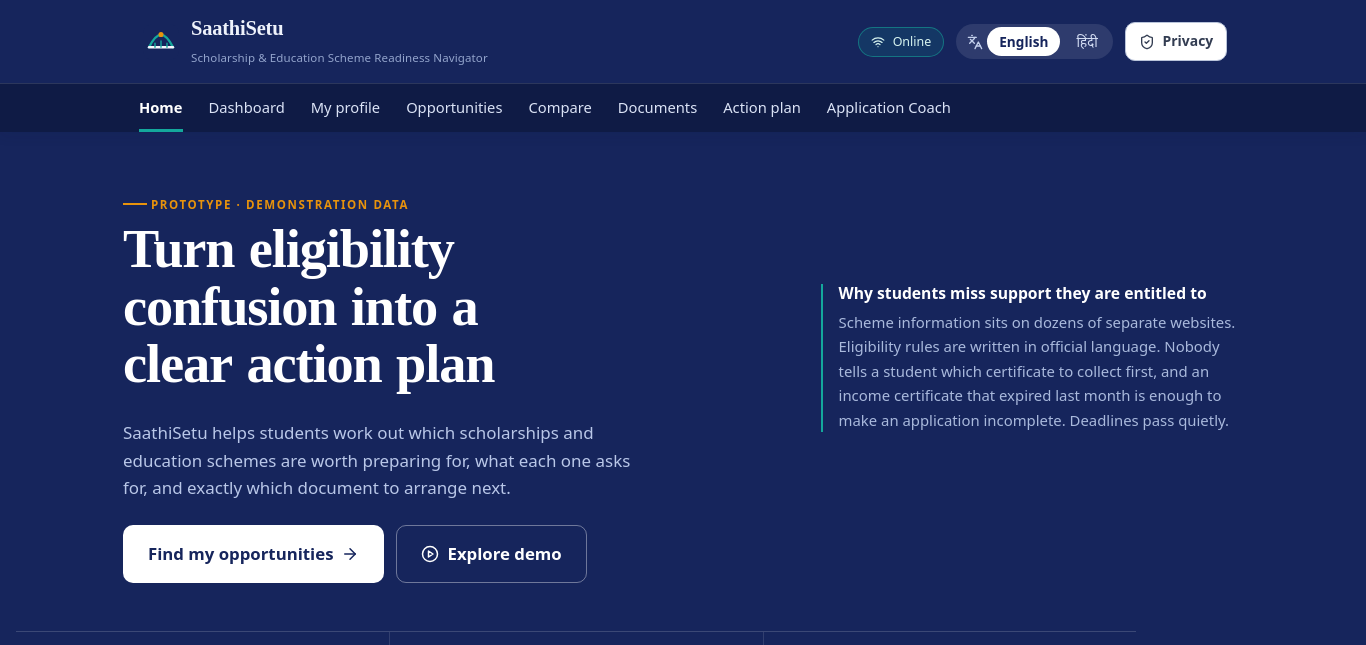
the opportunities page › explains a match on demand rather than only showing a percentage
Click the button "Find my opportunities": click(254, 554) top-left (123, 526), bottom-right (384, 583)
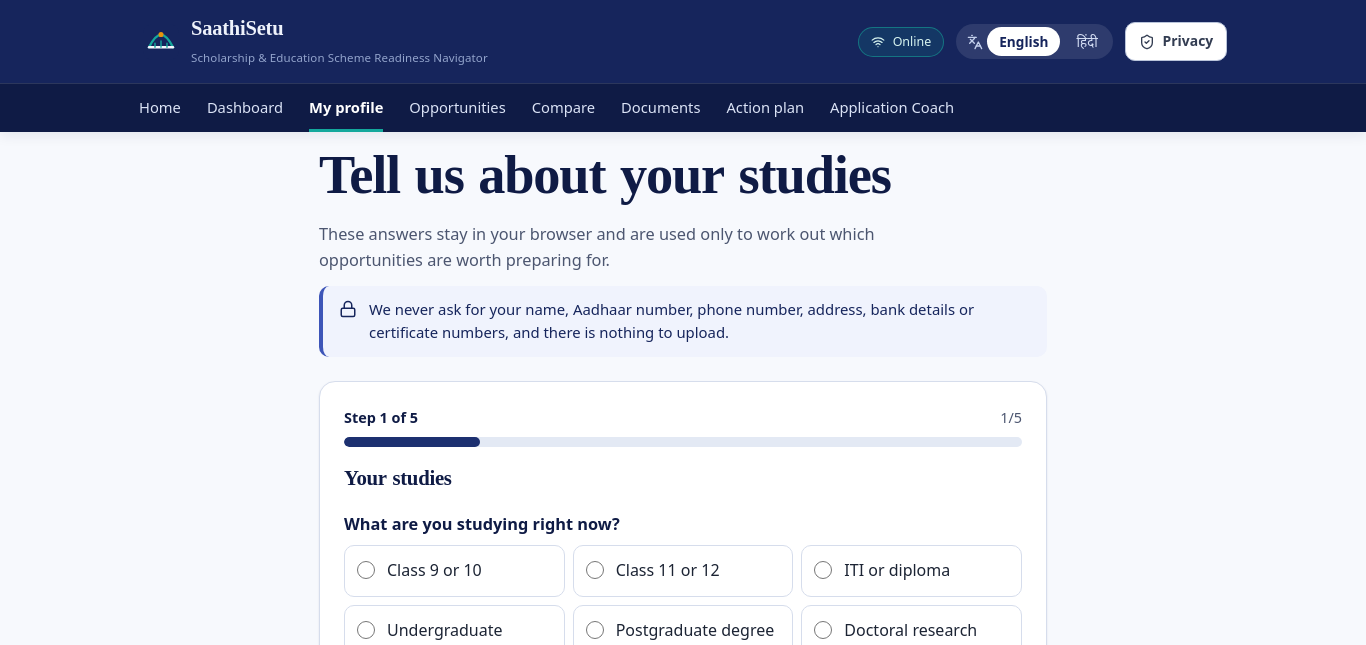
Click the radio button labelled "Undergraduate degree": click(366, 630) top-left (357, 621), bottom-right (375, 639)
(page scrolled)
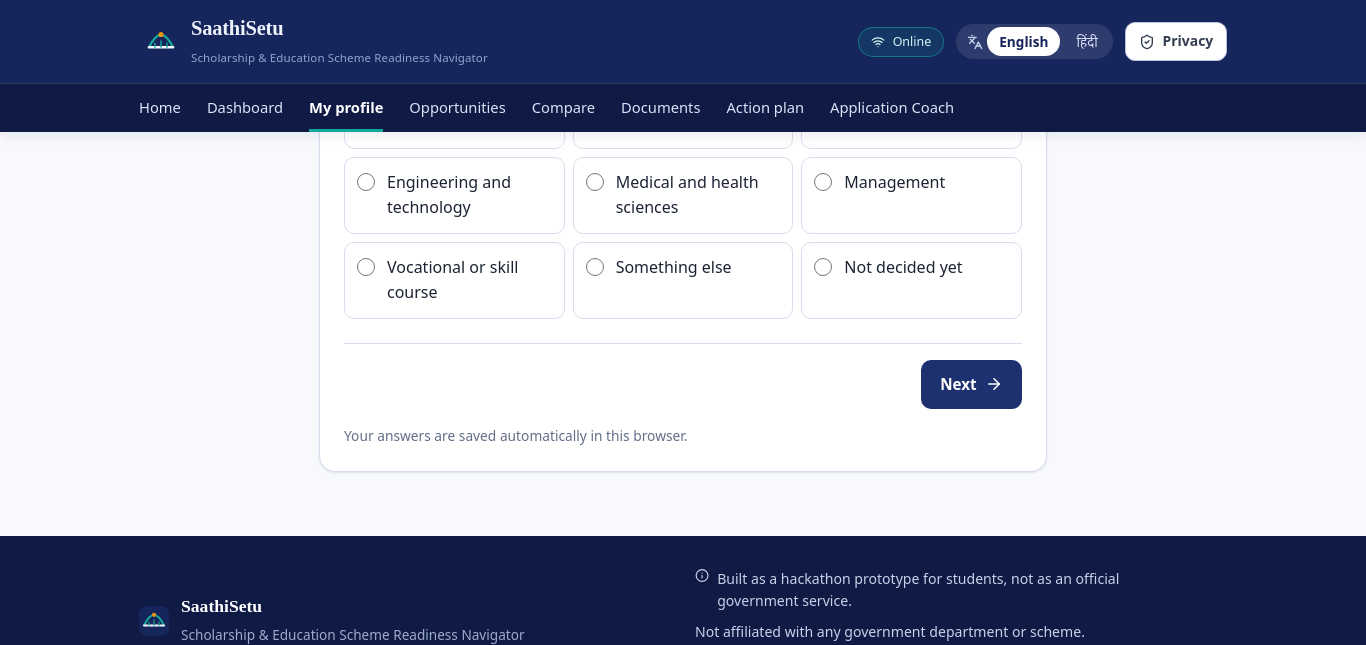
Click the button "Next": click(971, 384) top-left (921, 360), bottom-right (1022, 409)
(page scrolled)
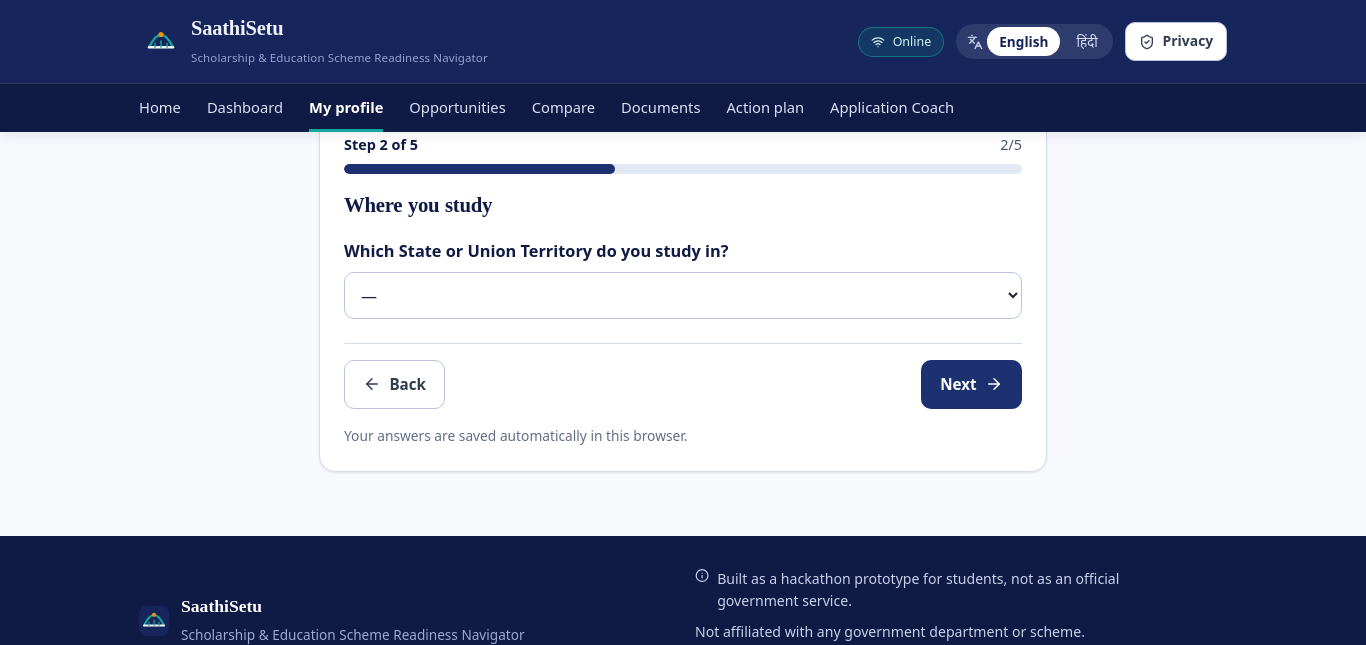
Select "Maharashtra" in the dropdown labelled "Which State or Union Territory do you study in?": (683, 296) top-left (344, 272), bottom-right (1022, 319)
Click the button "Next": click(971, 384) top-left (921, 360), bottom-right (1022, 409)
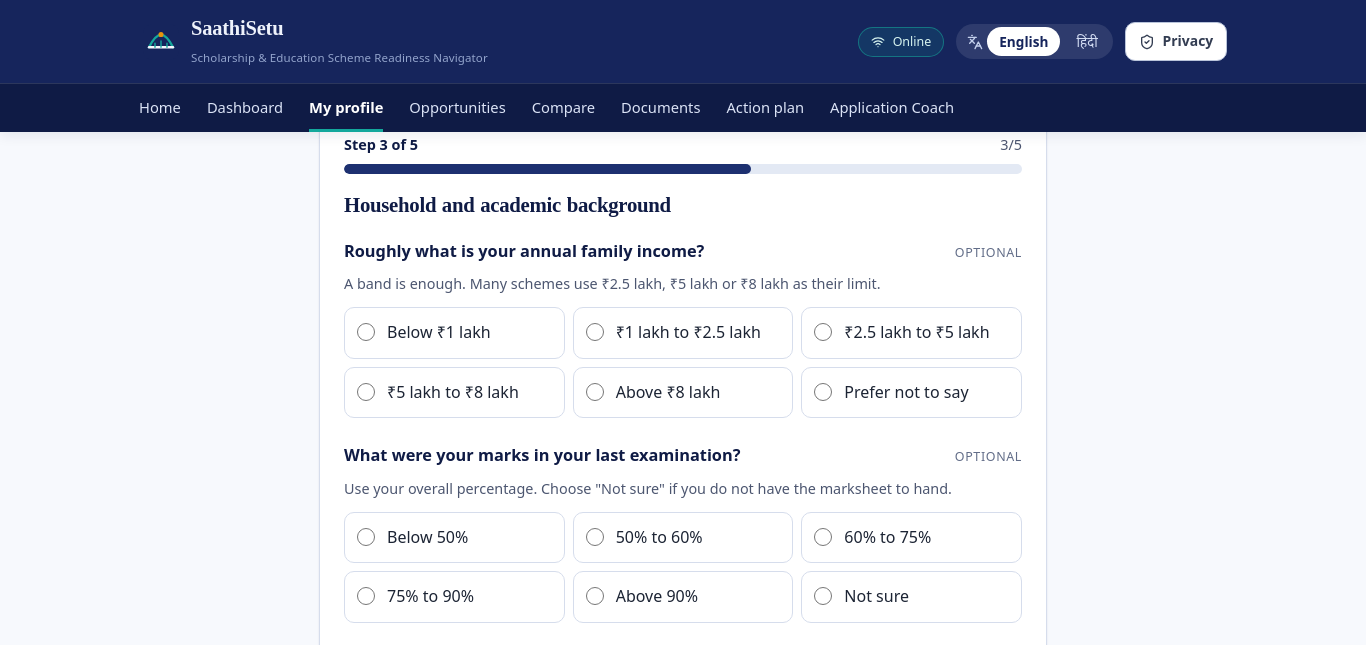
Click the button "Opportunities": click(458, 108) top-left (409, 84), bottom-right (506, 132)
(page scrolled)
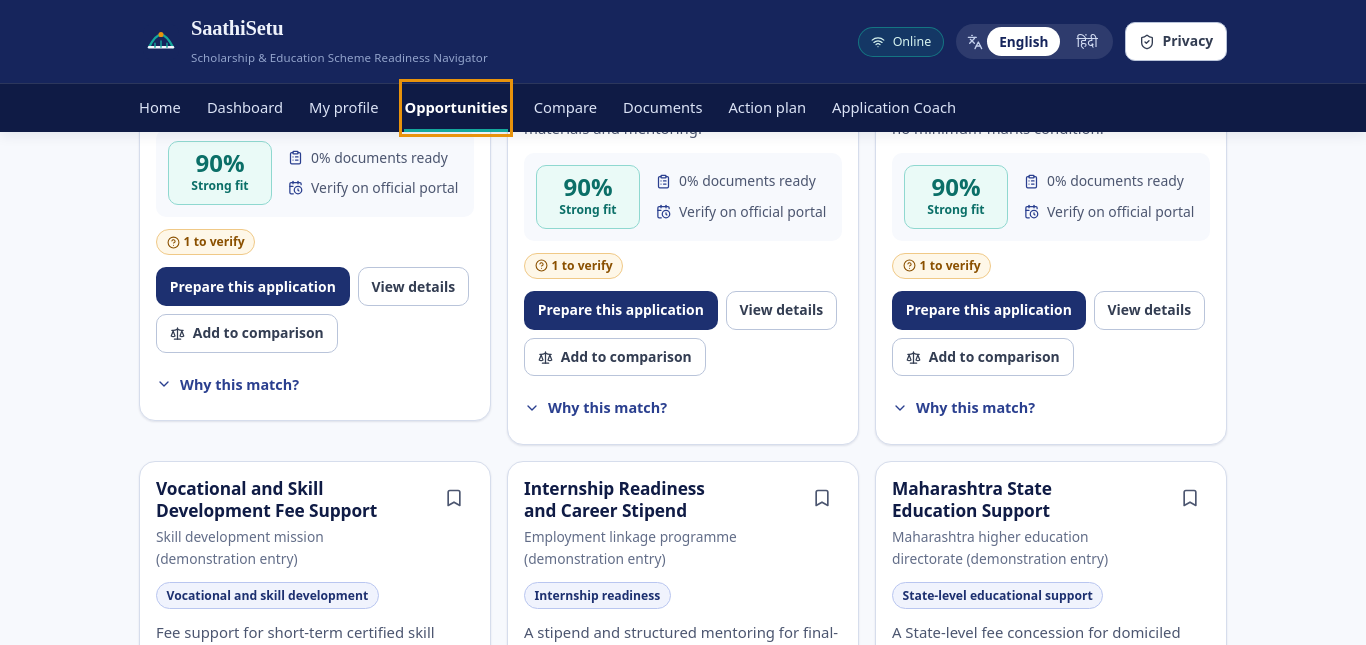
Click the 1st button "Why this match?": click(240, 384) top-left (156, 365), bottom-right (474, 404)
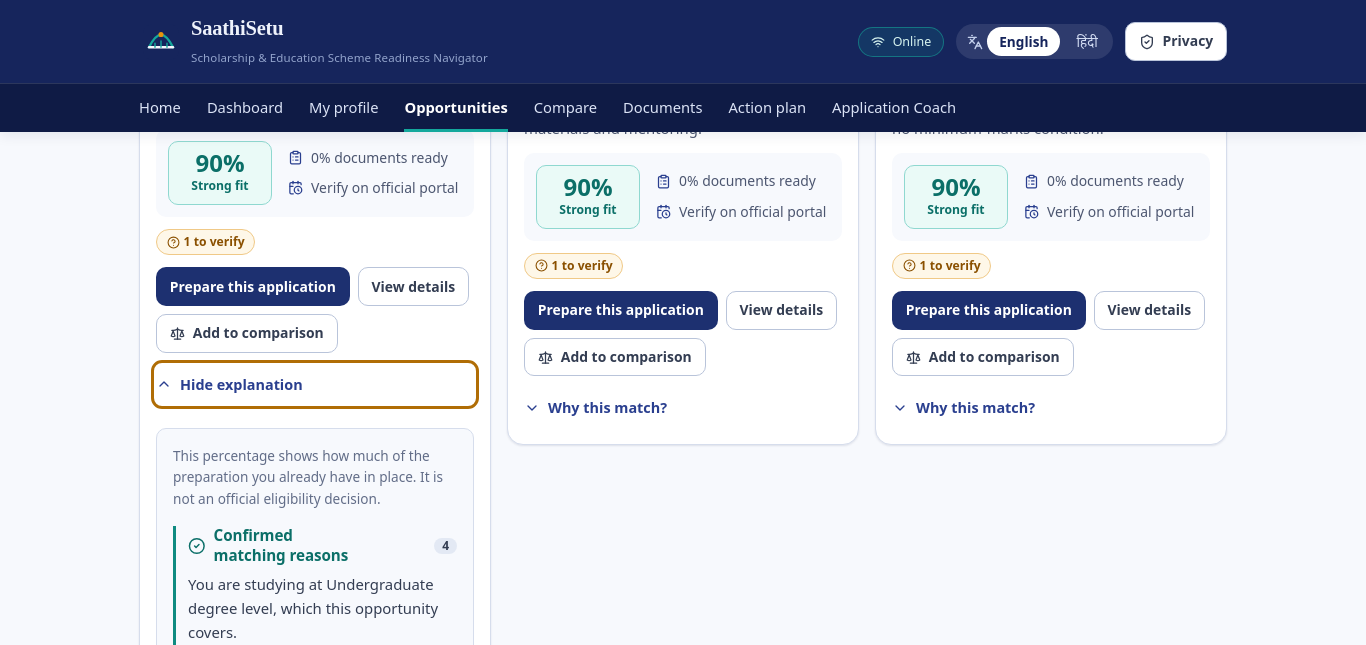
expect the heading "Confirmed matching reasons 4" is shown: met, box top-left (188, 526), bottom-right (457, 566)
expect the text "not an official eligibility decision" is shown: met, box top-left (173, 446), bottom-right (443, 508)
